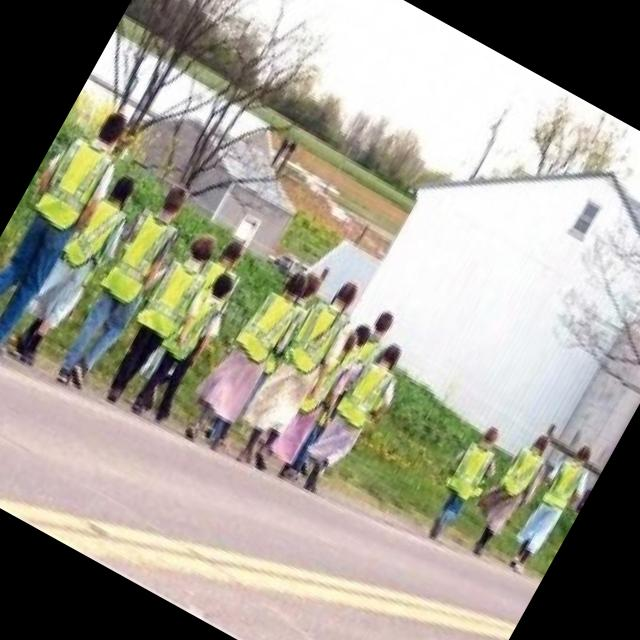hard_hat: (70, 78, 138, 142)
safety_vest: (30, 132, 119, 233), (100, 206, 178, 304), (136, 259, 206, 348), (328, 350, 400, 436), (279, 300, 349, 382), (232, 286, 300, 368), (67, 198, 126, 276), (441, 444, 495, 512), (496, 444, 548, 504), (540, 460, 584, 516)
